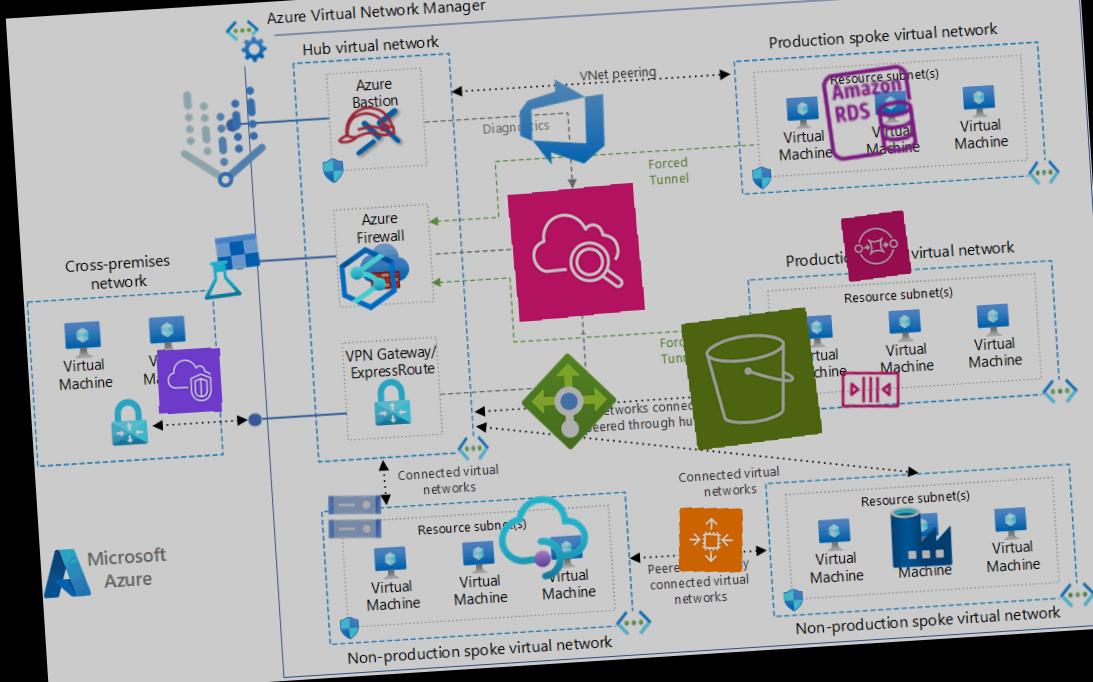aws_amazon_cloudwatch: (506, 181, 646, 323)
aws_amazon_ec2_auto_scaling: (674, 502, 747, 576)
aws_amazon_simple_queue_service: (839, 209, 912, 283)
aws_amazon_simple_storage_service: (679, 305, 823, 451)
aws_amazon_virtual_private_cloud: (155, 346, 223, 415)
aws_aurora_amazon_rds_instance: (815, 57, 923, 167)
aws_identity_access_management_role: (328, 87, 401, 161)
aws_simple_queue_service_queue: (834, 352, 907, 426)
azure_api_management_services: (488, 482, 597, 592)
azure_data_factories: (886, 501, 955, 571)
azure_devops: (509, 68, 614, 174)
azure_load_balancers: (516, 348, 621, 454)
azure_machine_learning_studio_workspaces: (193, 229, 267, 303)
azure_synapse_analytics: (332, 242, 403, 314)
gcp_cloud_storage: (319, 480, 390, 552)
gcp_vertex_ai: (153, 68, 291, 208)
